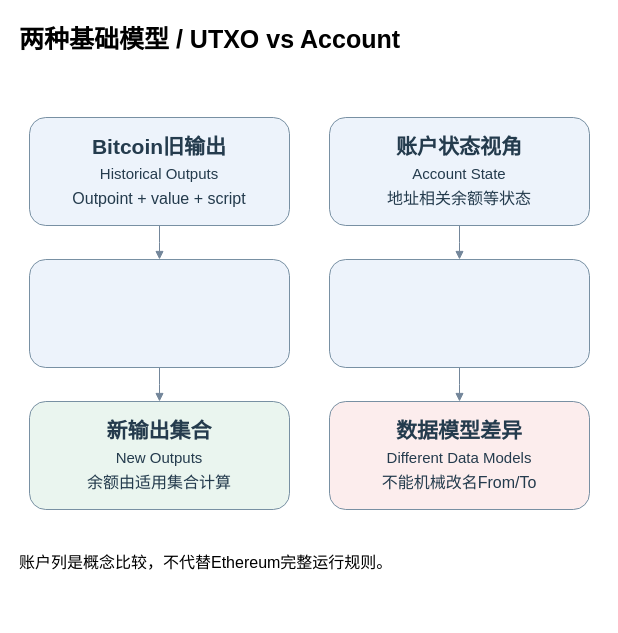
Image size: 618x633. Some labels were removed from this diagram. The box of each missing label's shape, as (x1, y1, x2, y2) in pixels:
按规则更新账户 Update Account State 各网络有自己的执行规则: (328, 258, 590, 368)
花费整笔旧输出 Consume Whole Outputs 输入引用旧Outpoint: (28, 258, 290, 368)
